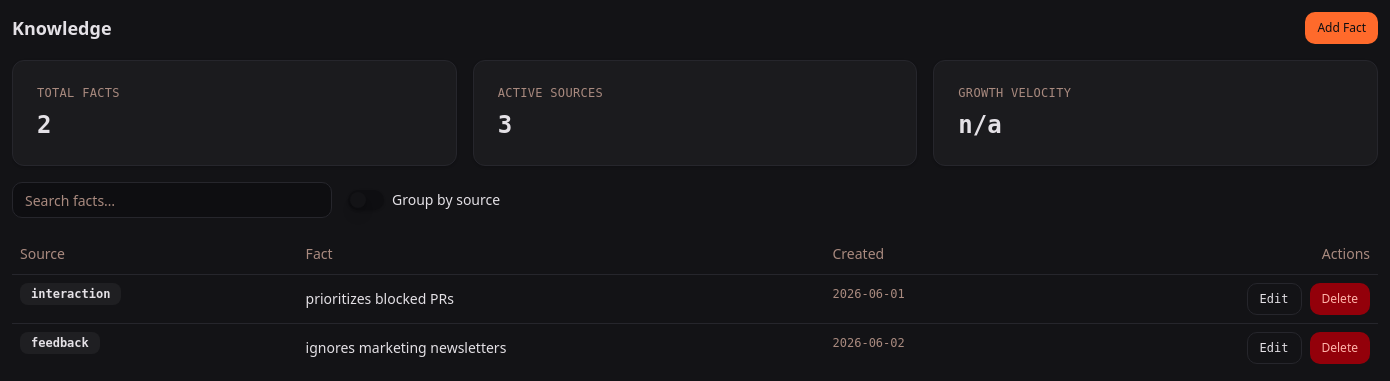
Knowledge page › search filters the facts list
This screenshot has width=1390, height=381.
Expected: the text "prioritizes blocked PRs" is shown, [298,274,824,323]
Type "marketing" into the field labelled "Search facts" at x=172, y=200, box [12,182,332,218]
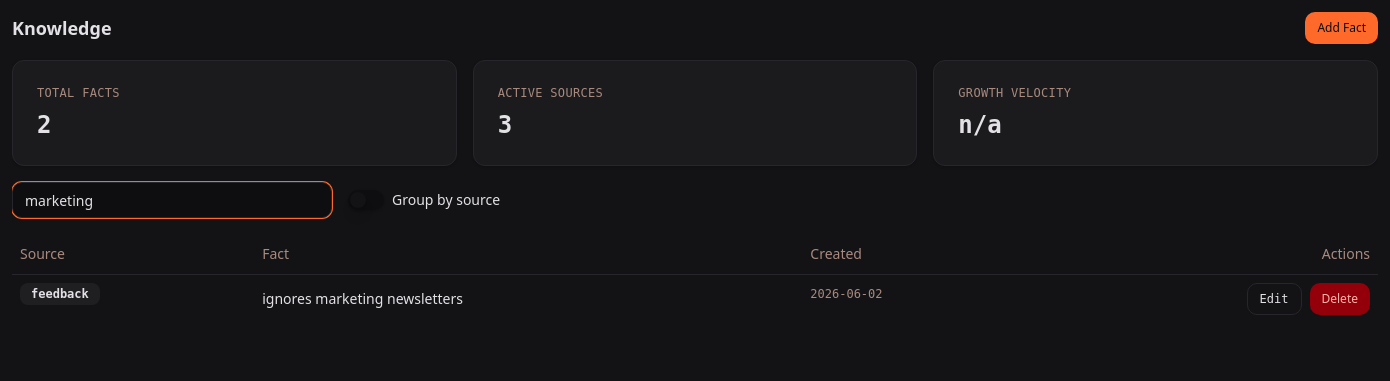
Expected: the text "ignores marketing newsletters" is shown, [254,274,802,322]
Expected: the text "prioritizes blocked PRs" is gone
